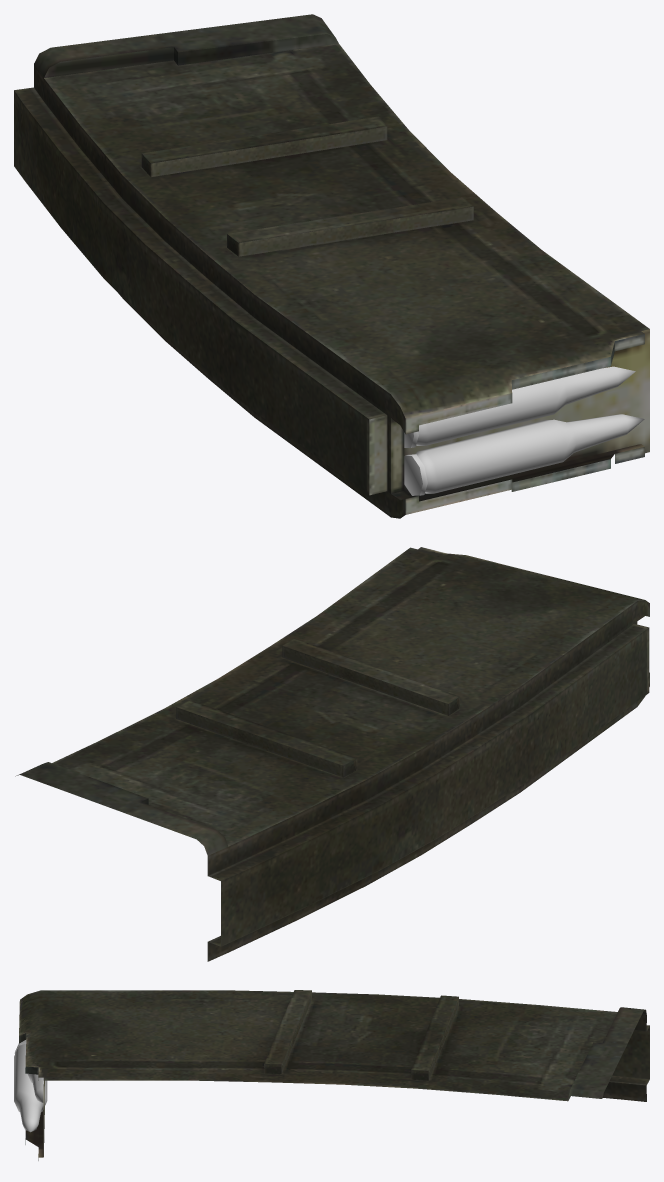
The model's file is t6_attach_mag_sig556_view_LOD0.obj.
3 views of the same model, one above another, from view 1: azimuth 30°, elevation 25°; view 2: azimuth 150°, elevation 25°; view 3: azimuth 270°, elevation 25° (orthographic). The views are drawn at different scales.
Parts seen in each view (by area): view 1: mtl_t6_wpn_ar_sig556_camo1, mtl_t6_wpn_ar_sig556_camo3, mtl_t6_attach_bullet; view 2: mtl_t6_wpn_ar_sig556_camo1, mtl_t6_wpn_ar_sig556_camo3; view 3: mtl_t6_wpn_ar_sig556_camo1, mtl_t6_wpn_ar_sig556_camo3, mtl_t6_attach_bullet.
Part boxes in pixels (<box>): mtl_t6_wpn_ar_sig556_camo1: <box>34,14,649,518</box>; mtl_t6_wpn_ar_sig556_camo3: <box>14,87,473,495</box>; mtl_t6_attach_bullet: <box>404,366,644,495</box>; mtl_t6_wpn_ar_sig556_camo1: <box>15,547,649,961</box>; mtl_t6_wpn_ar_sig556_camo3: <box>176,623,649,946</box>; mtl_t6_wpn_ar_sig556_camo1: <box>19,990,646,1160</box>; mtl_t6_wpn_ar_sig556_camo3: <box>264,990,649,1085</box>; mtl_t6_attach_bullet: <box>14,1040,47,1132</box>.
Size of the model in its own units: 8.73 by 3.32 by 19.69.
